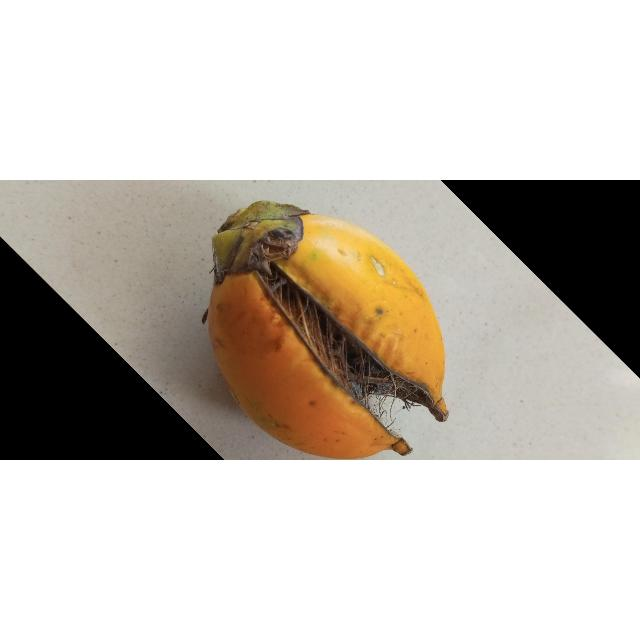damaged: (207, 201, 450, 461)
